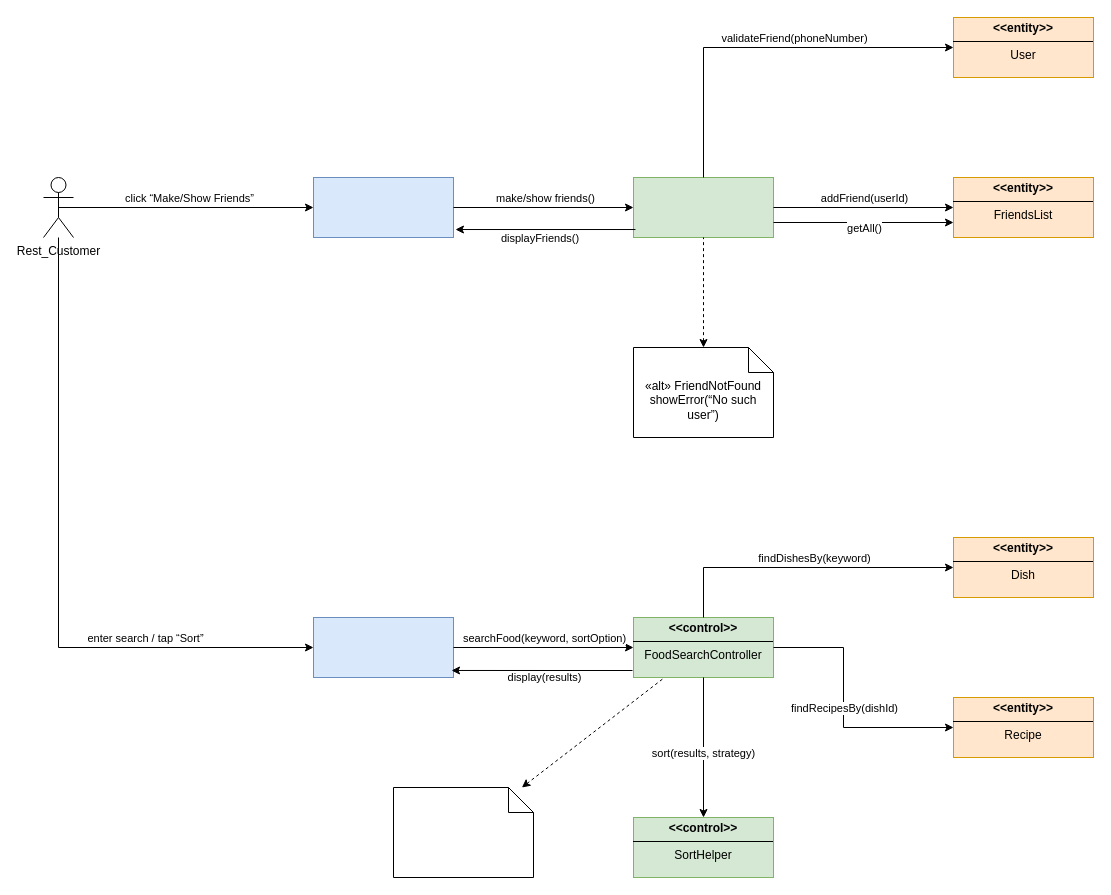
Image size: 1111x895. Some labels were removed from this diagram. The shapes that lost their labels are listed below. From the top down, each one's centre as x and y in pixels, then its label:
At (x=383, y=207): "<<boundary>> FriendsScreen".
At (x=703, y=207): "<<control>> FriendsController".
At (x=383, y=647): "<<boundary>> FoodSearchScreen".
At (x=463, y=832): "«alt» NoResults showError(“No matches”)".
